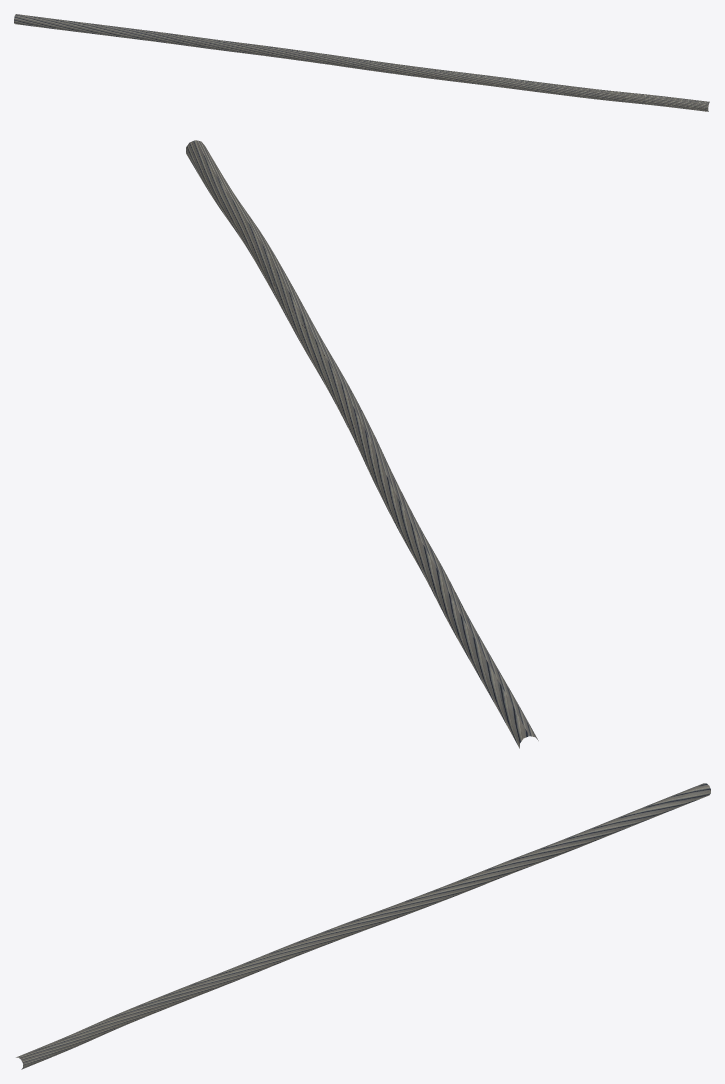
The picture shows the model from 3 angles, top to bottom: view 1: azimuth 30°, elevation 25°; view 2: azimuth 150°, elevation 25°; view 3: azimuth 270°, elevation 25°; orthographic projection. The views are drawn at different scales.
Size of the model in its own units: 78.15 by 1.6 by 82.73.
1 material, 1 textured.
